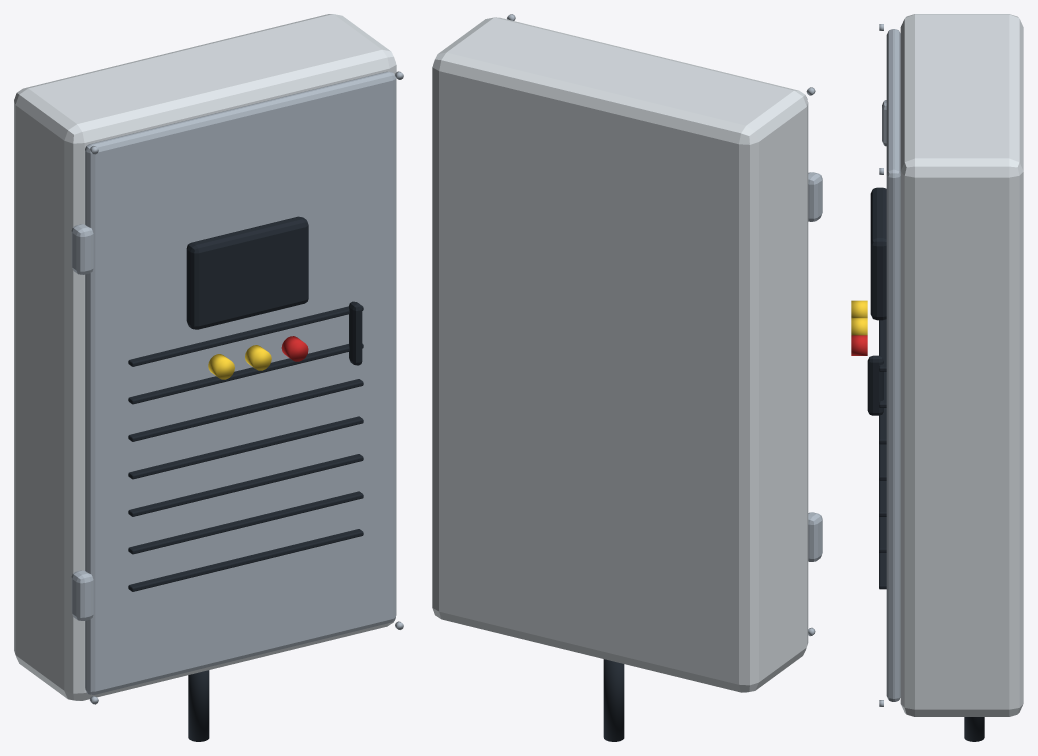
The model's file is distribution.glb.
3 views of the same model, side by side, from view 1: azimuth 30°, elevation 25°; view 2: azimuth 150°, elevation 25°; view 3: azimuth 270°, elevation 25° (orthographic). The views are drawn at different scales.
Parts seen in each view (by area): view 1: Gasketed access door, distribution, Ventilation louvre, Switch; view 2: distribution, Ventilation louvre, Gasketed access door; view 3: distribution, Gasketed access door, Ventilation louvre, Switch, Switch.002.
Boxes of the visible parts, left/top/right/bottom form: Gasketed access door: left=71, top=71, right=403, bottom=704; distribution: left=14, top=14, right=396, bottom=700; Ventilation louvre: left=128, top=216, right=363, bottom=741; Switch: left=208, top=345, right=271, bottom=379; distribution: left=432, top=17, right=808, bottom=692; Ventilation louvre: left=603, top=659, right=624, bottom=741; Gasketed access door: left=507, top=14, right=822, bottom=636; distribution: left=900, top=14, right=1023, bottom=716; Gasketed access door: left=879, top=24, right=900, bottom=706; Ventilation louvre: left=867, top=187, right=984, bottom=741; Switch: left=851, top=300, right=867, bottom=335; Switch.002: left=851, top=335, right=867, bottom=355.
Bounding box in the file's own units: 0.9045 × 1.75 × 0.42.
